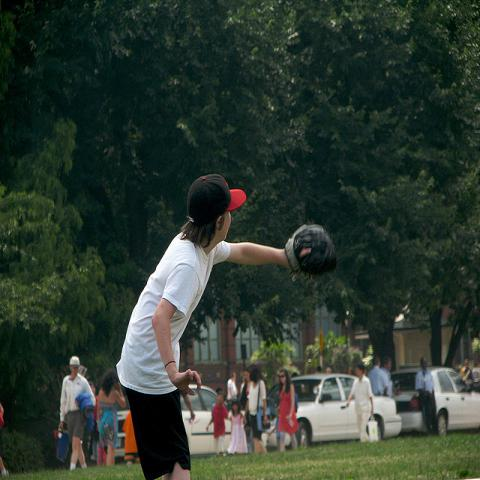car: (292, 371, 402, 449), (391, 366, 479, 439), (181, 384, 233, 452)
